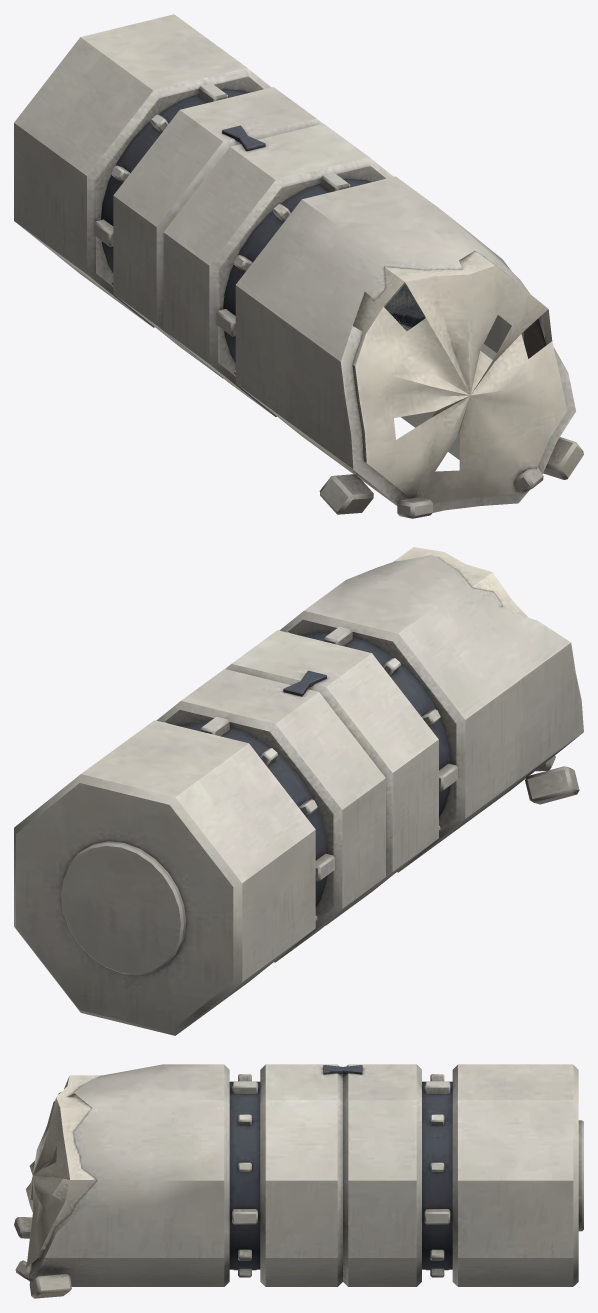
Rendered from shaft_drum.glb.
3 views of the same model, one above another, from view 1: azimuth 30°, elevation 25°; view 2: azimuth 150°, elevation 25°; view 3: azimuth 270°, elevation 25° (orthographic). The views are drawn at different scales.
Visible parts, largest first — view 1: shaft_drum_body; view 2: shaft_drum_body; view 3: shaft_drum_body.
Part boxes in pixels (<box>): shaft_drum_body: <box>14,14,583,518</box>; shaft_drum_body: <box>14,547,583,1035</box>; shaft_drum_body: <box>14,1064,583,1298</box>.
Bounding box in the file's own units: 2.45 × 2.32 × 6.34.
1 material, 1 textured.
